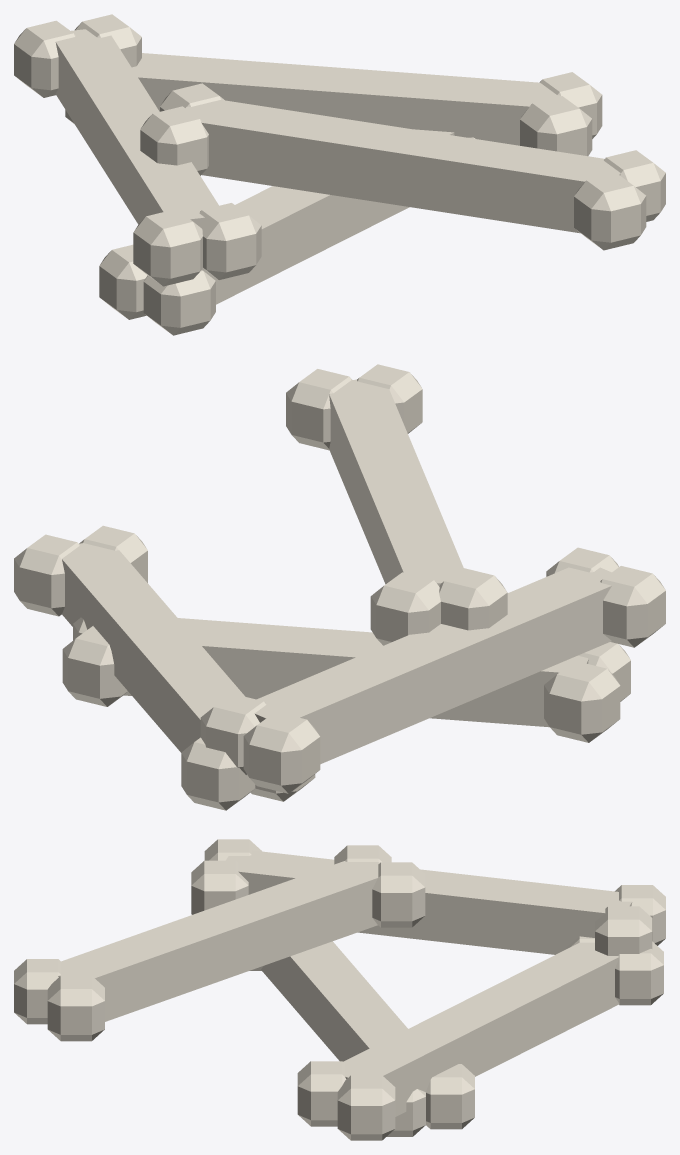
Rendered from BonePile.fbx.
The picture shows the model from 3 angles, top to bottom: view 1: azimuth 30°, elevation 25°; view 2: azimuth 150°, elevation 25°; view 3: azimuth 270°, elevation 25°; orthographic projection. The views are drawn at different scales.
Visible parts, largest first — view 1: BonePile; view 2: BonePile; view 3: BonePile.
Part boxes in pixels (x1=…): BonePile: x1=14, y1=14, x2=665, y2=335; BonePile: x1=14, y1=364, x2=665, y2=810; BonePile: x1=14, y1=839, x2=665, y2=1140.
Size of the model in its own units: 2.1 by 0.58 by 2.5.
1 material, 1 textured.
